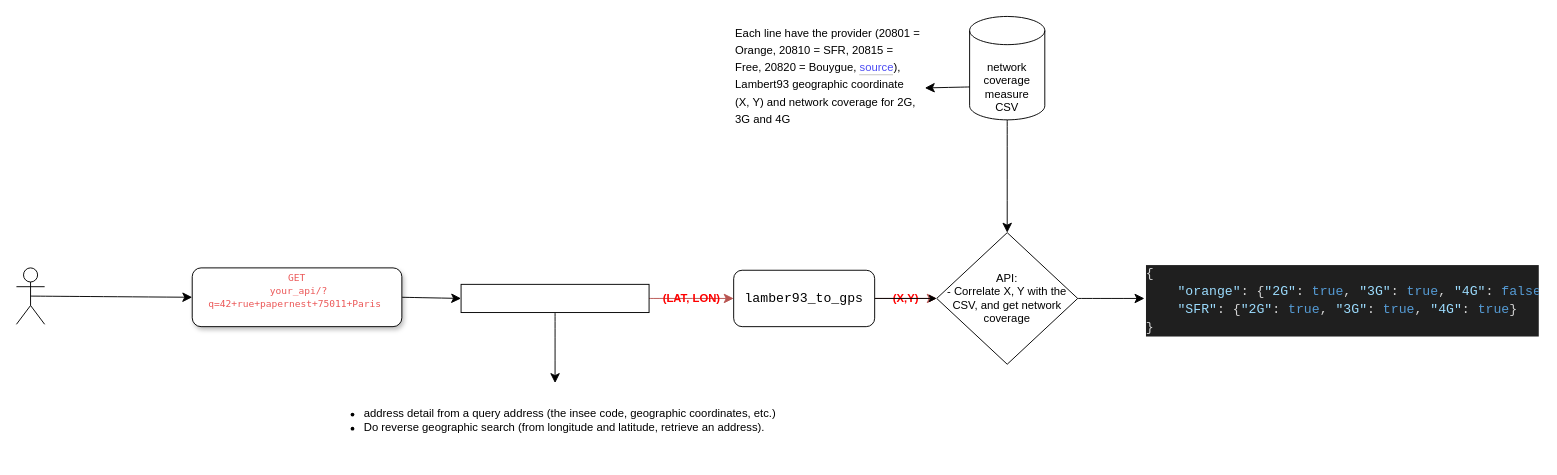
Some shapes in this 1557 by 475 pixel diagram are drawn without their labels. Here are the shapes that lost their labels. From the top down, the centre of each, then its label:
At (30,295): "Actor".
At (554,298): "https://adresse.data.gouv.fr/api-doc".
